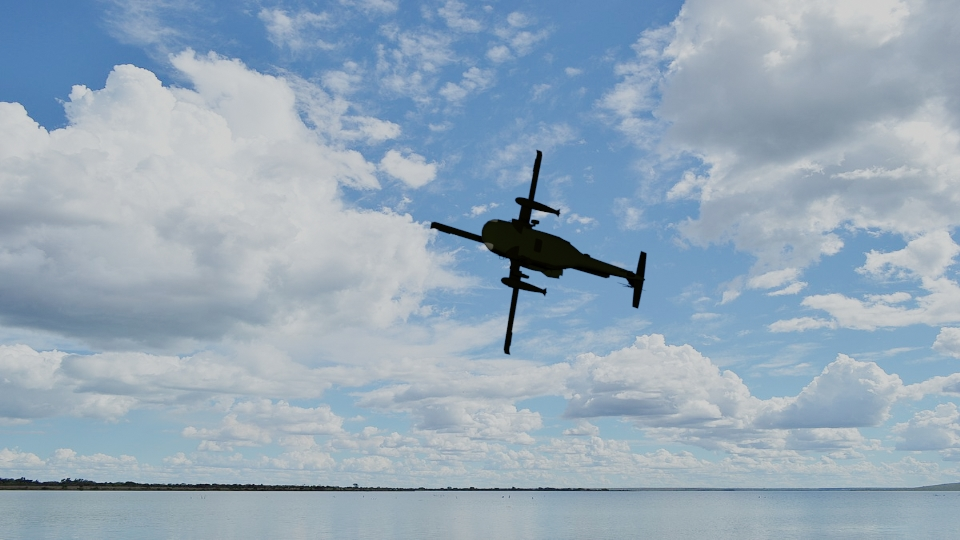heli: (429, 148, 648, 355)
